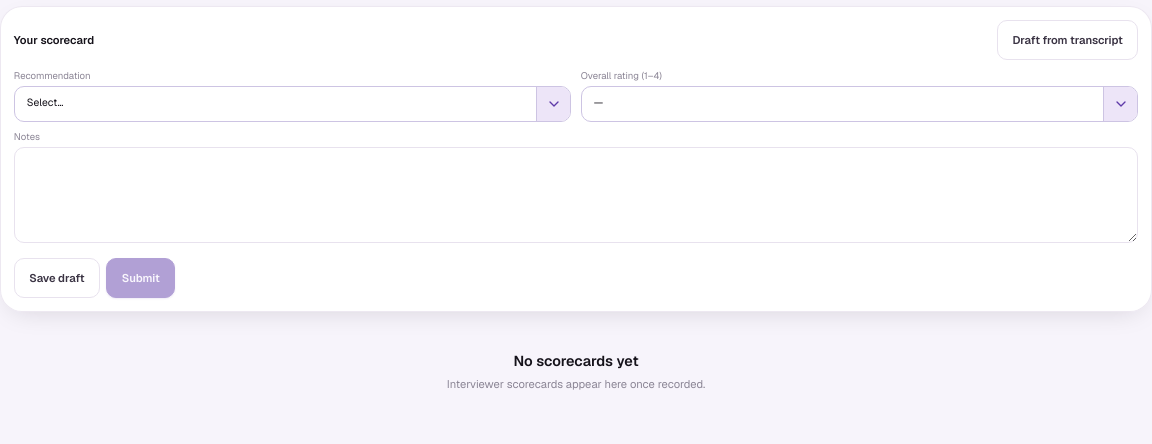
it: ScorecardPanel › drafts from the transcript and loads the agent draft into the editor
Expected: the heading "Your scorecard" is shown, left=14, top=32, right=94, bottom=48
Click the button "Draft from transcript" at (1068, 40), box left=997, top=20, right=1138, bottom=60
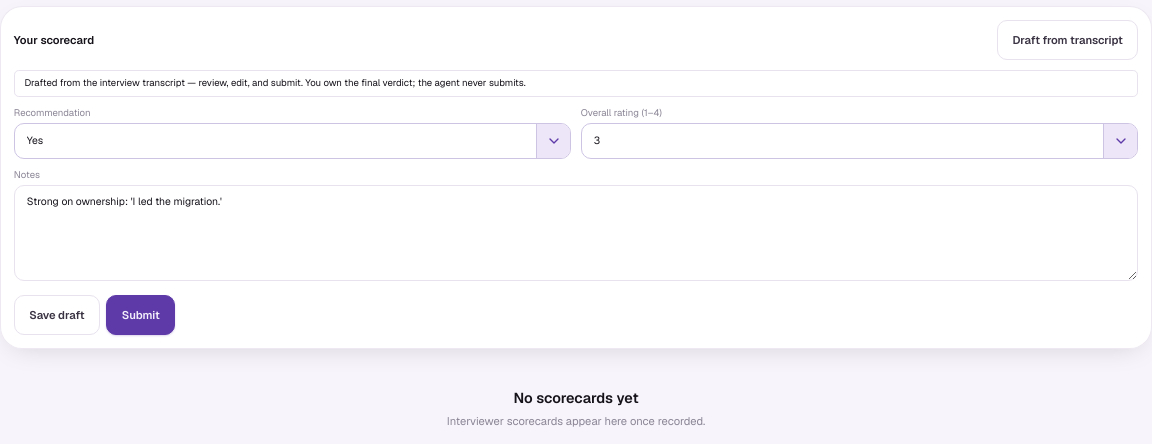
Result: the text "review, edit, and submit" is shown at left=24, top=76, right=526, bottom=89
Result: the text box showing "Strong on ownership: 'I led the migration.'" is shown at left=14, top=184, right=1138, bottom=280
